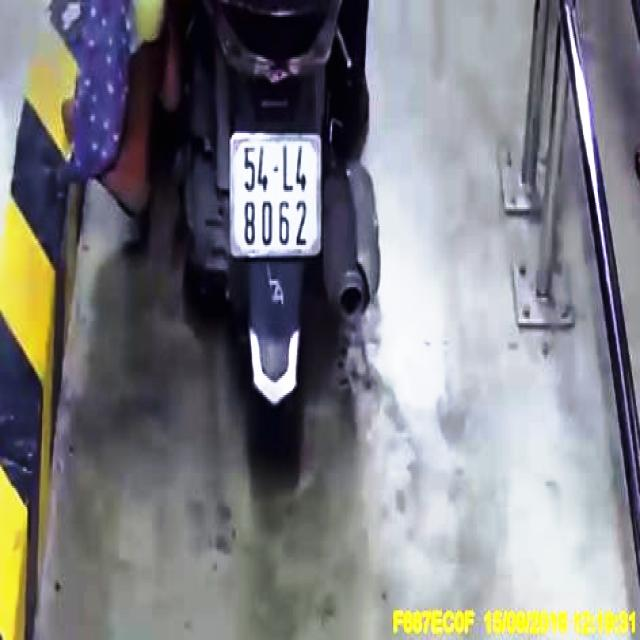license_plate: (232, 133, 321, 260)
